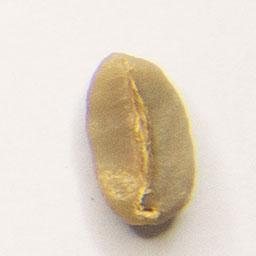longberry: (80, 48, 201, 232)
